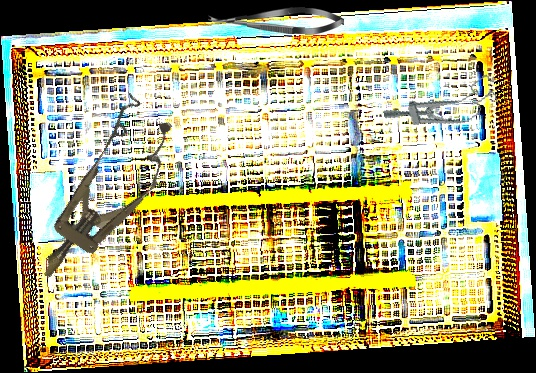Micro Scissor: (207, 5, 345, 36)
Speculum: (15, 92, 191, 298), (380, 72, 504, 143)
